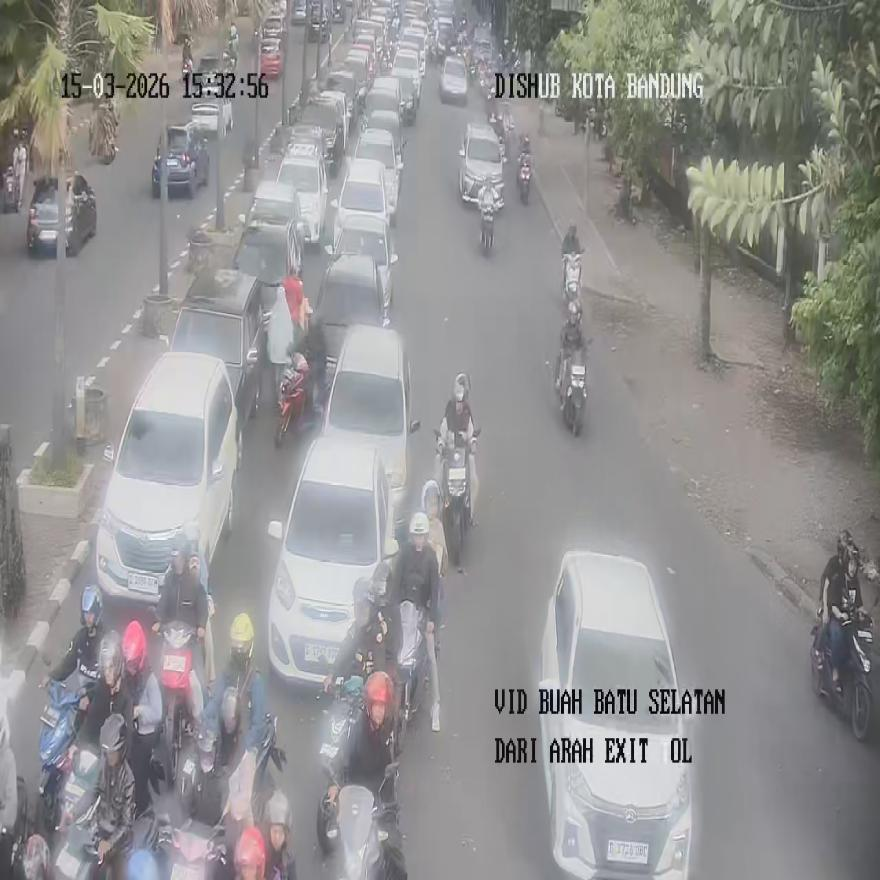Motor: (538, 548, 693, 878), (96, 352, 240, 610), (267, 437, 399, 690), (320, 324, 419, 516), (168, 269, 262, 445)
Truk: (37, 674, 96, 832), (316, 677, 366, 854), (812, 606, 872, 741), (157, 618, 202, 788), (333, 783, 407, 879), (435, 426, 479, 564), (393, 602, 429, 750), (168, 819, 228, 880), (274, 353, 311, 449), (555, 347, 586, 435), (561, 250, 583, 310), (2, 166, 19, 212), (480, 202, 495, 254), (517, 155, 530, 204)
